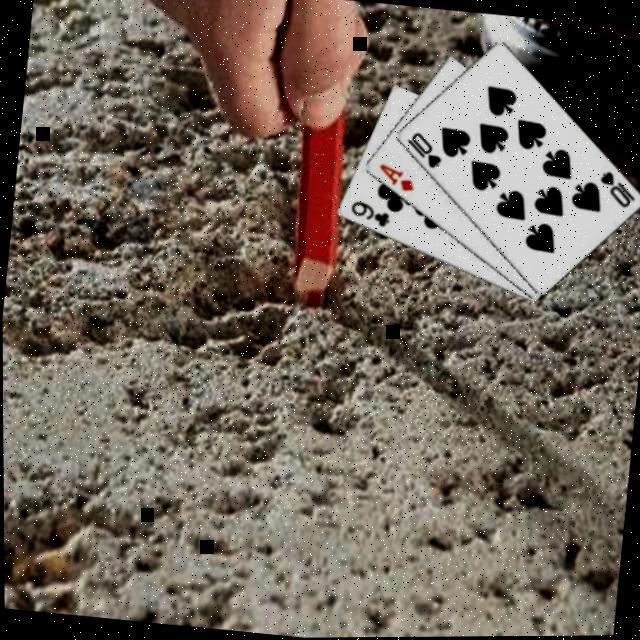10S: (398, 126, 444, 170), (592, 166, 638, 210)
9C: (343, 196, 392, 230)
AD: (371, 158, 416, 193)
